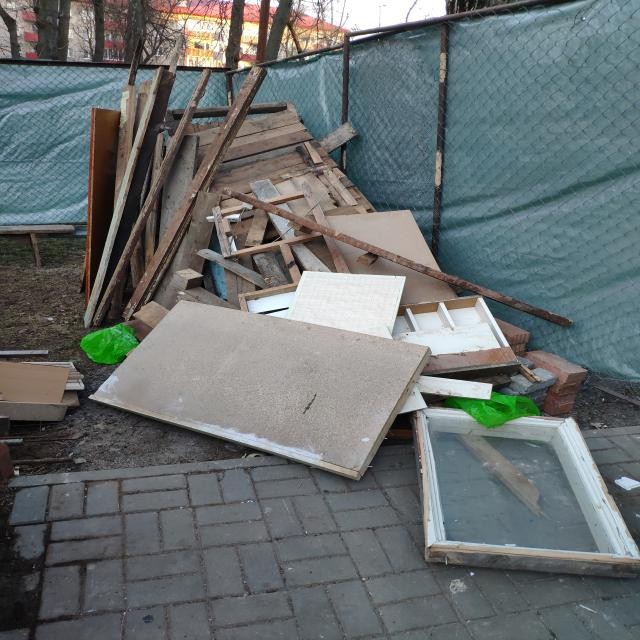entulho: (100, 270, 438, 472), (84, 295, 432, 483), (412, 401, 640, 576), (304, 203, 464, 309), (128, 40, 184, 304), (199, 66, 273, 180), (153, 63, 219, 184), (201, 187, 322, 253), (86, 105, 124, 312), (291, 271, 410, 332), (218, 104, 318, 172), (408, 295, 512, 358), (0, 349, 87, 423), (460, 274, 570, 331), (516, 346, 592, 417), (114, 81, 134, 286), (197, 250, 276, 290), (313, 119, 364, 159)
lixo domiciliar: (458, 391, 542, 428), (80, 325, 138, 365)
